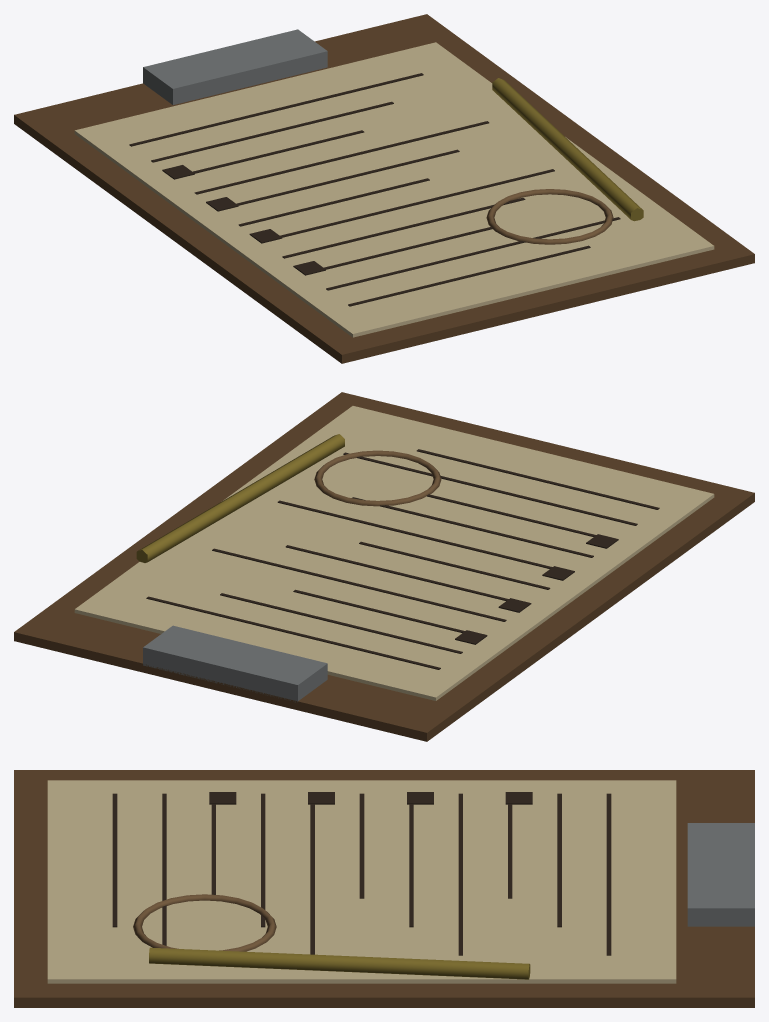
Rendered from notepad.glb.
3 views of the same model, one above another, from view 1: azimuth 30°, elevation 25°; view 2: azimuth 150°, elevation 25°; view 3: azimuth 270°, elevation 25° (orthographic). The views are drawn at different scales.
Visible parts, largest first — view 1: paperOld, hardboard, woodNight, tin, pencil, stain; view 2: paperOld, hardboard, woodNight, tin, pencil, stain; view 3: paperOld, hardboard, woodNight, tin, pencil, stain.
Part boxes in pixels (left/top/right/bottom): paperOld: left=74, top=42, right=714, bottom=337; hardboard: left=14, top=14, right=754, bottom=363; woodNight: left=129, top=73, right=620, bottom=306; tin: left=143, top=29, right=327, bottom=104; pencil: left=492, top=78, right=643, bottom=221; stain: left=486, top=189, right=613, bottom=244; paperOld: left=74, top=406, right=714, bottom=700; hardboard: left=14, top=392, right=754, bottom=741; woodNight: left=146, top=449, right=659, bottom=669; tin: left=143, top=625, right=327, bottom=702; pencil: left=136, top=434, right=344, bottom=562; stain: left=314, top=450, right=441, bottom=506; paperOld: left=47, top=780, right=676, bottom=983; hardboard: left=14, top=770, right=754, bottom=1007; woodNight: left=112, top=792, right=611, bottom=955; tin: left=687, top=823, right=754, bottom=926; pencil: left=149, top=947, right=530, bottom=979; stain: left=133, top=894, right=276, bottom=951.
Size of the model in its own units: 0.24 by 0.014 by 0.33.
